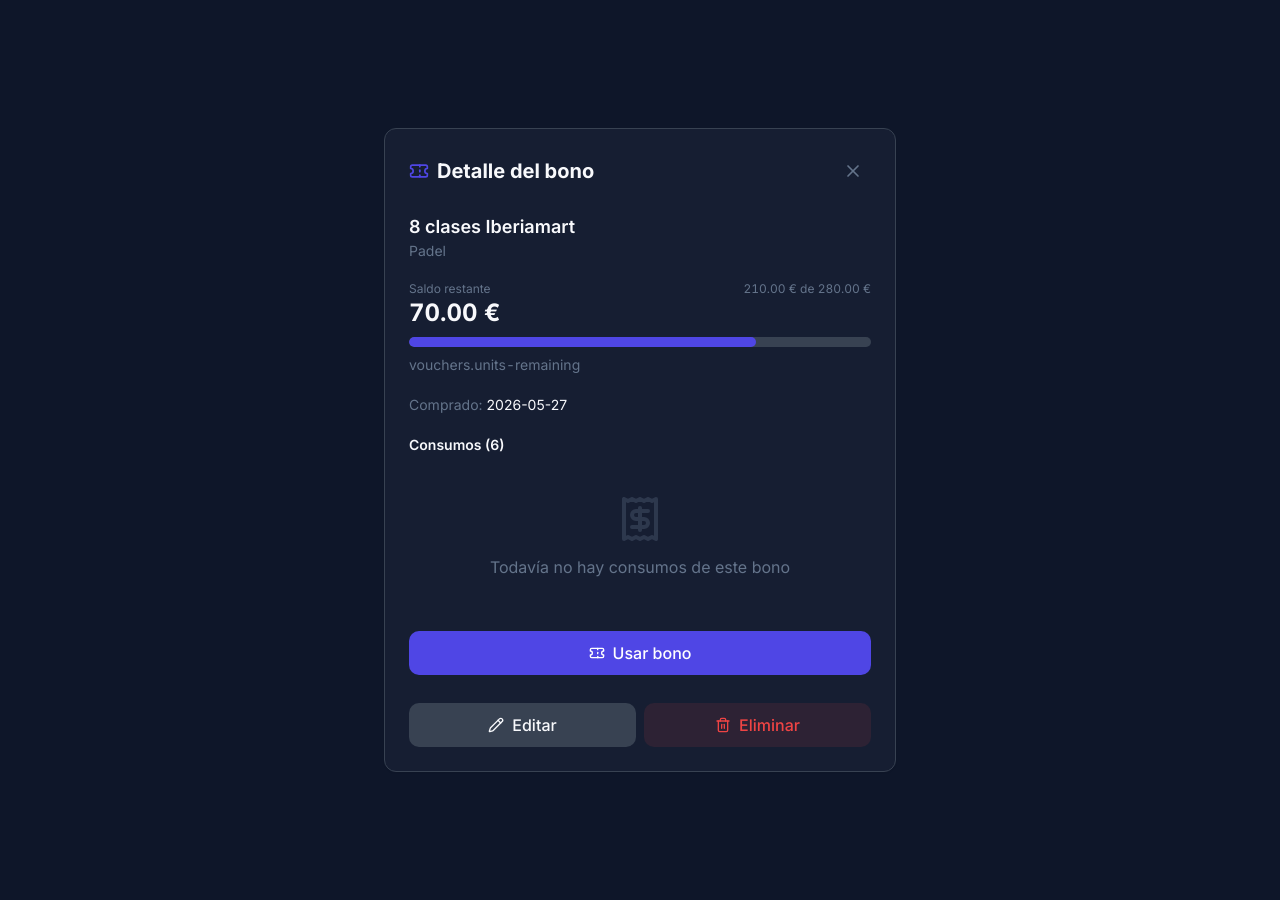
VoucherDetailModal — quick-consume flow › reveals the consume form with date (today) and 1 unit pre-filled
Click the button "Usar bono". click: point(640, 653)
box: 409,631 -> 871,675
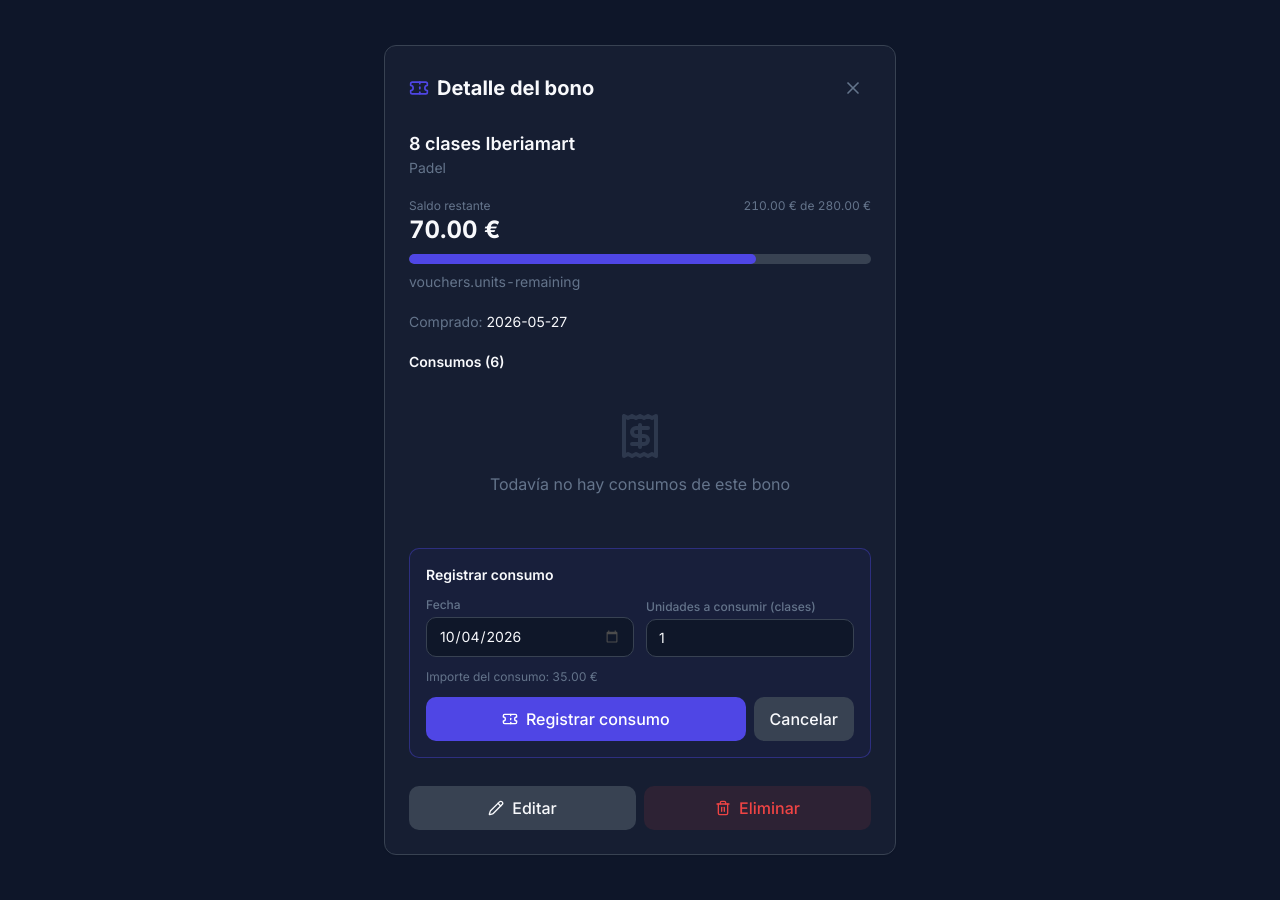
Result: the number field labelled "Unidades a consumir (clases)" holds "1" at 646,619 -> 854,657
